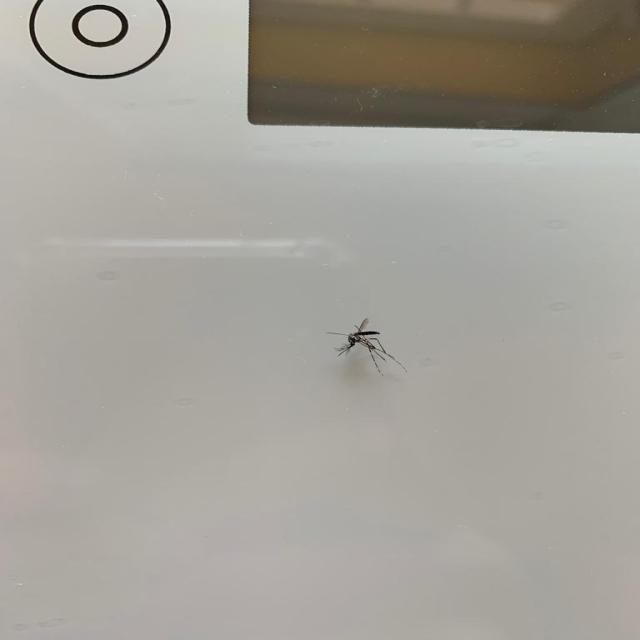albopictus: (318, 312, 406, 376)
